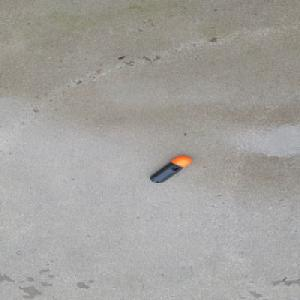PlasticPart: (149, 155, 192, 183)
